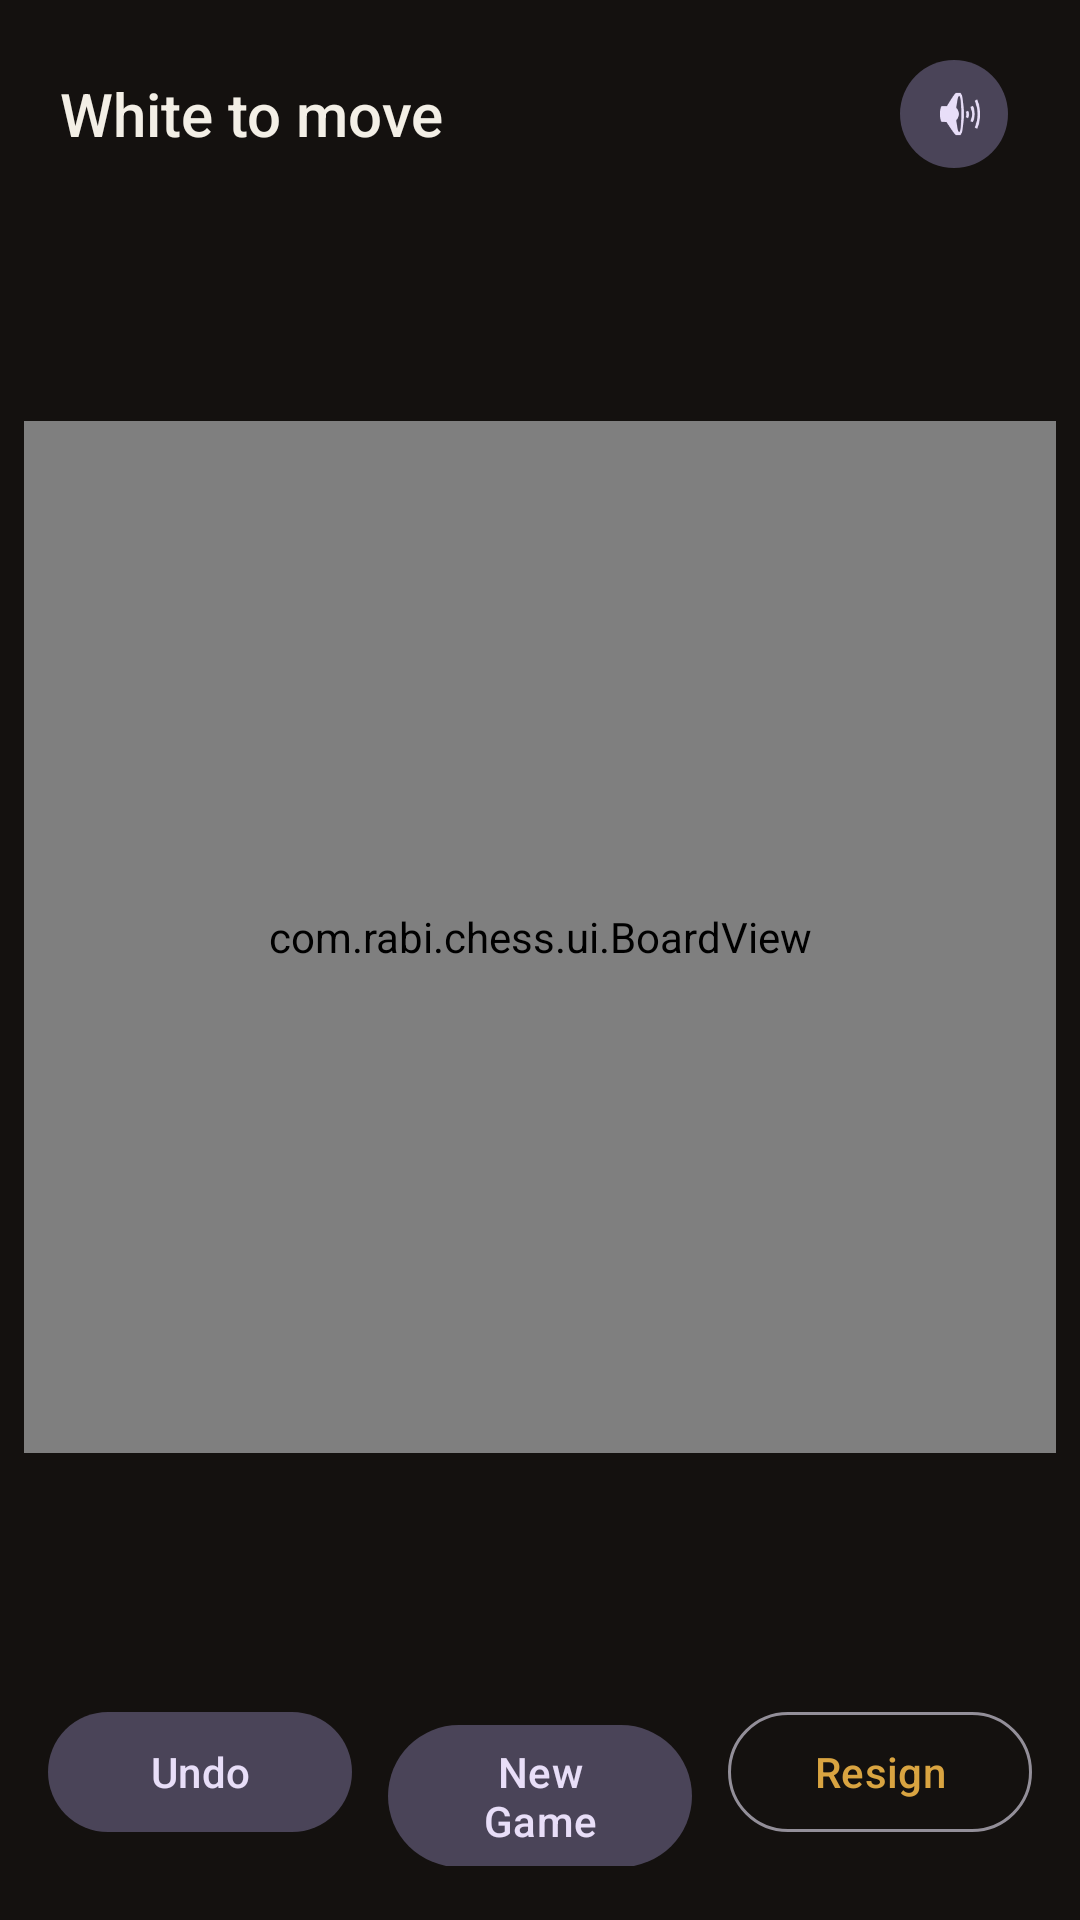

Icons on this 1080×1920 Android screen, each with the point to tap as point (x, y):
lock silent mode off: point (954, 114)
